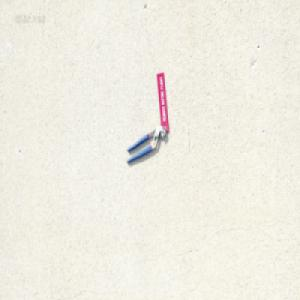Label: (156, 71, 170, 132)
Pliers: (126, 124, 166, 163)
